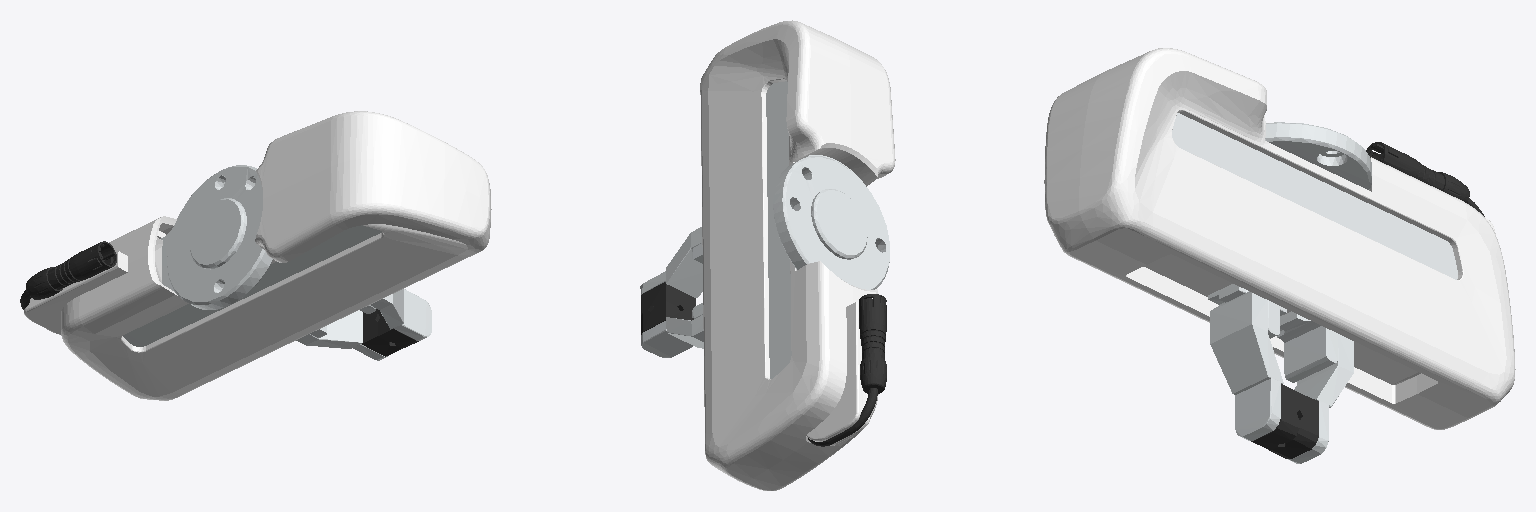
robot.urdf — fr3:
<?xml version="1.0" encoding="utf-8"?>
<robot name="fr3" path="fr3.urdf">
	<link name="base"></link>
	<link name="fr3_link0">
		<visual name="fr3_link0_visual">
			<geometry>
				<mesh filename="package://franka_description/meshes/robot_arms/fr3/visual/link0.dae"></mesh>
			</geometry>
		</visual>
		<collision>
			<geometry>
				<sphere radius="0.093646"></sphere>
			</geometry>
			<origin xyz="-0.08604953894373772 0.0036964648894988027 0.03944024855788951" rpy="0 0 0"></origin>
		</collision>
		<collision>
			<geometry>
				<sphere radius="0.117857"></sphere>
			</geometry>
			<origin xyz="-0.015627538943737723 0.00040146488949880277 0.06625224855788951" rpy="0 0 0"></origin>
		</collision>
		<inertial>
			<origin rpy="0 0 0" xyz="-0.0172 0.0004 0.0745"></origin>
			<mass value="2.3966"></mass>
			<inertia ixx="0.009" ixy="0.0" ixz="0.002" iyy="0.0115" iyz="0.0" izz="0.0085"></inertia>
		</inertial>
	</link>
	<link name="fr3_link1">
		<visual name="fr3_link1_visual">
			<geometry>
				<mesh filename="package://franka_description/meshes/robot_arms/fr3/visual/link1.dae"></mesh>
			</geometry>
		</visual>
		<collision>
			<geometry>
				<sphere radius="0.076596"></sphere>
			</geometry>
			<origin xyz="0.0002572757452726364 0.00036496158409118906 -0.1395377861636877" rpy="0 0 0"></origin>
		</collision>
		<collision>
			<geometry>
				<sphere radius="0.077209"></sphere>
			</geometry>
			<origin xyz="-0.0002227242547273636 -0.05429003841590881 0.0004042138363122977" rpy="0 0 0"></origin>
		</collision>
		<collision>
			<geometry>
				<sphere radius="0.063841"></sphere>
			</geometry>
			<origin xyz="0.0021852757452726366 -0.032367038415908815 -0.07320478616368771" rpy="0 0 0"></origin>
		</collision>
		<inertial>
			<origin rpy="0 0 0" xyz="0.0000004128 -0.0181251324 -0.0386035970"></origin>
			<mass value="2.9274653454"></mass>
			<inertia ixx="0.023927316485107913" ixy="1.3317903455714081e-05" ixz="-0.00011404774918616684" iyy="0.0224821613275756" iyz="-0.0019950320628240115" izz="0.006350098258530016"></inertia>
		</inertial>
	</link>
	<link name="fr3_link2">
		<visual name="fr3_link2_visual">
			<geometry>
				<mesh filename="package://franka_description/meshes/robot_arms/fr3/visual/link2.dae"></mesh>
			</geometry>
		</visual>
		<collision>
			<geometry>
				<sphere radius="0.076816"></sphere>
			</geometry>
			<origin xyz="-0.00027067482554912563 0.001070431646943093 0.05372098027944565" rpy="0 0 0"></origin>
		</collision>
		<collision>
			<geometry>
				<sphere radius="0.077489"></sphere>
			</geometry>
			<origin xyz="-8.367482554912564e-05 -0.14062856835305693 8.998027944565057e-05" rpy="0 0 0"></origin>
		</collision>
		<collision>
			<geometry>
				<sphere radius="0.062048"></sphere>
			</geometry>
			<origin xyz="0.0003963251744508743 -0.0708775683530569 0.03436398027944565" rpy="0 0 0"></origin>
		</collision>
		<inertial>
			<origin rpy="0 0 0" xyz="0.0031828864 -0.0743221644 0.0088146084"></origin>
			<mass value="2.9355370338"></mass>
			<inertia ixx="0.041938946257609425" ixy="0.00020257331521090626" ixz="0.004077784227179924" iyy="0.02514514885014724" iyz="-0.0042252158006570156" izz="0.06170214472888839"></inertia>
		</inertial>
	</link>
	<link name="fr3_link3">
		<visual name="fr3_link3_visual">
			<geometry>
				<mesh filename="package://franka_description/meshes/robot_arms/fr3/visual/link3.dae"></mesh>
			</geometry>
		</visual>
		<collision>
			<geometry>
				<sphere radius="0.075943"></sphere>
			</geometry>
			<origin xyz="0.0824602061868906 0.05128625277674198 -0.0022088697187900574" rpy="0 0 0"></origin>
		</collision>
		<collision>
			<geometry>
				<sphere radius="0.075019"></sphere>
			</geometry>
			<origin xyz="-0.0002167938131093991 0.00010725277674198189 -0.07312186971879006" rpy="0 0 0"></origin>
		</collision>
		<collision>
			<geometry>
				<sphere radius="0.062048"></sphere>
			</geometry>
			<origin xyz="0.0557052061868906 0.03720825277674198 -0.024382869718790057" rpy="0 0 0"></origin>
		</collision>
		<inertial>
			<origin rpy="0 0 0" xyz="0.0407015686 -0.0048200565 -0.0289730823"></origin>
			<mass value="2.2449013699"></mass>
			<inertia ixx="0.02410142547240885" ixy="0.002404694559042109" ixz="-0.002856269270114313" iyy="0.01974053266708178" iyz="-0.002104212683891874" izz="0.019044494482244823"></inertia>
		</inertial>
	</link>
	<link name="fr3_link4">
		<visual name="fr3_link4_visual">
			<geometry>
				<mesh filename="package://franka_description/meshes/robot_arms/fr3/visual/link4.dae"></mesh>
			</geometry>
		</visual>
		<collision>
			<geometry>
				<sphere radius="0.075495"></sphere>
			</geometry>
			<origin xyz="-0.08238368919563294 0.07379842906057835 -2.6764888167381956e-05" rpy="0 0 0"></origin>
		</collision>
		<collision>
			<geometry>
				<sphere radius="0.075361"></sphere>
			</geometry>
			<origin xyz="0.0001593108043670688 -7.857093942165161e-05 0.05122923511183262" rpy="0 0 0"></origin>
		</collision>
		<collision>
			<geometry>
				<sphere radius="0.055149"></sphere>
			</geometry>
			<origin xyz="-0.03874268919563294 0.029100429060578345 0.030254235111832617" rpy="0 0 0"></origin>
		</collision>
		<inertial>
			<origin rpy="0 0 0" xyz="-0.0459100965 0.0630492960 -0.0085187868"></origin>
			<mass value="2.6155955791"></mass>
			<inertia ixx="0.03452998321913202" ixy="0.01322552265982813" ixz="0.01015142998484113" iyy="0.028881621933049058" iyz="-0.0009762833870704552" izz="0.04125471171146641"></inertia>
		</inertial>
	</link>
	<link name="fr3_link5">
		<visual name="fr3_link5_visual">
			<geometry>
				<mesh filename="package://franka_description/meshes/robot_arms/fr3/visual/link5.dae"></mesh>
			</geometry>
		</visual>
		<collision>
			<geometry>
				<sphere radius="0.068828"></sphere>
			</geometry>
			<origin xyz="-0.0004341865881681442 0.06618005760097503 -0.0001217777594327979" rpy="0 0 0"></origin>
		</collision>
		<collision>
			<geometry>
				<sphere radius="0.048846"></sphere>
			</geometry>
			<origin xyz="0.00023581341183185575 0.08886305760097504 -0.0383667777594328" rpy="0 0 0"></origin>
		</collision>
		<collision>
			<geometry>
				<sphere radius="0.037086"></sphere>
			</geometry>
			<origin xyz="-2.2186588168144228e-05 0.09049005760097503 -0.09064677775943279" rpy="0 0 0"></origin>
		</collision>
		<collision>
			<geometry>
				<sphere radius="0.038546"></sphere>
			</geometry>
			<origin xyz="-0.002255186588168144 0.08243205760097504 -0.1297767777594328" rpy="0 0 0"></origin>
		</collision>
		<collision>
			<geometry>
				<sphere radius="0.052285"></sphere>
			</geometry>
			<origin xyz="0.001972813411831856 0.05637305760097504 -0.1834387777594328" rpy="0 0 0"></origin>
		</collision>
		<collision>
			<geometry>
				<sphere radius="0.06584"></sphere>
			</geometry>
			<origin xyz="-0.006596186588168144 0.016208057600975035 -0.2143127777594328" rpy="0 0 0"></origin>
		</collision>
		<collision>
			<geometry>
				<sphere radius="0.061387"></sphere>
			</geometry>
			<origin xyz="0.013021813411831855 -0.0014499423990249616 -0.2192007777594328" rpy="0 0 0"></origin>
		</collision>
		<collision>
			<geometry>
				<sphere radius="0.059023"></sphere>
			</geometry>
			<origin xyz="-0.008915186588168145 -0.009376942399024965 -0.22116877775943278" rpy="0 0 0"></origin>
		</collision>
		<inertial>
			<origin rpy="0 0 0" xyz="-0.0016039605 0.0292536262 -0.0972965990"></origin>
			<mass value="2.3271207594"></mass>
			<inertia ixx="0.051610278463662895" ixy="-0.005715173387783472" ixz="-0.0035673167625872135" iyy="0.04787729713371481" iyz="0.010673985108535986" izz="0.016423625579357254"></inertia>
		</inertial>
	</link>
	<link name="fr3_link6">
		<visual name="fr3_link6_visual">
			<geometry>
				<mesh filename="package://franka_description/meshes/robot_arms/fr3/visual/link6.dae"></mesh>
			</geometry>
		</visual>
		<collision>
			<geometry>
				<sphere radius="0.082713"></sphere>
			</geometry>
			<origin xyz="0.08852163272205019 0.011632835493021526 -0.0010641464367326884" rpy="0 0 0"></origin>
		</collision>
		<collision>
			<geometry>
				<sphere radius="0.076831"></sphere>
			</geometry>
			<origin xyz="0.011907632722050181 0.011082835493021526 0.017439853563267313" rpy="0 0 0"></origin>
		</collision>
		<inertial>
			<origin rpy="0 0 0" xyz="0.0597131221 -0.0410294666 -0.0101692726"></origin>
			<mass value="1.8170376524"></mass>
			<inertia ixx="0.005412333594383447" ixy="0.006193456360285834" ixz="0.0014219289306117652" iyy="0.014058329545509979" iyz="-0.0013140753741120031" izz="0.016080817924212554"></inertia>
		</inertial>
	</link>
	<link name="fr3_link7">
		<visual name="fr3_link7_visual">
			<geometry>
				<mesh filename="package://franka_description/meshes/robot_arms/fr3/visual/link7.dae"></mesh>
			</geometry>
		</visual>
		<collision>
			<geometry>
				<sphere radius="0.054563"></sphere>
			</geometry>
			<origin xyz="0.00010334357428550683 -0.0008827081855535511 0.07766810432720184" rpy="0 0 0"></origin>
		</collision>
		<collision>
			<geometry>
				<sphere radius="0.042595"></sphere>
			</geometry>
			<origin xyz="0.0398483435742855 0.03995329181444645 0.07909310432720185" rpy="0 0 0"></origin>
		</collision>
		<inertial>
			<origin rpy="0 0 0" xyz="0.0045225817 0.0086261921 -0.0161633251"></origin>
			<mass value="0.6271432862"></mass>
			<inertia ixx="0.00021092389150104718" ixy="-2.433299114461931e-05" ixz="4.564480393778983e-05" iyy="0.00017718568002411474" iyz="8.744070223226438e-05" izz="5.993190599659971e-05"></inertia>
		</inertial>
	</link>
	<link name="fr3_link8"></link>
	<link name="fr3_hand">
		<visual name="fr3_hand_visual">
			<geometry>
				<mesh filename="package://franka_description/meshes/robot_ee/franka_hand_white/visual/hand.dae"></mesh>
			</geometry>
		</visual>
		<collision>
			<geometry>
				<sphere radius="0.044394"></sphere>
			</geometry>
			<origin xyz="9.193240296840668e-05 0.07441707816624642 0.027520674433231355" rpy="0 0 0"></origin>
		</collision>
		<collision>
			<geometry>
				<sphere radius="0.048978"></sphere>
			</geometry>
			<origin xyz="2.5932402968406678e-05 0.033791078166246415 0.023450674433231355" rpy="0 0 0"></origin>
		</collision>
		<collision>
			<geometry>
				<sphere radius="0.050352"></sphere>
			</geometry>
			<origin xyz="1.9324029684066776e-06 -0.0068179218337535855 0.020964674433231353" rpy="0 0 0"></origin>
		</collision>
		<collision>
			<geometry>
				<sphere radius="0.044425"></sphere>
			</geometry>
			<origin xyz="7.293240296840668e-05 -0.06114992183375358 0.039945674433231354" rpy="0 0 0"></origin>
		</collision>
		<collision>
			<geometry>
				<sphere radius="0.043995"></sphere>
			</geometry>
			<origin xyz="1.6932402968406676e-05 -0.06272592183375358 0.006249674433231354" rpy="0 0 0"></origin>
		</collision>
		<inertial>
			<origin rpy="0 0 0" xyz="-0.0000376 0.0119128 0.0207260"></origin>
			<mass value="0.6544"></mass>
			<inertia ixx="0.00186" ixy="0.0" ixz="0.0" iyy="0.0003" iyz="-2e-05" izz="0.00174"></inertia>
		</inertial>
	</link>
	<link name="fr3_hand_tcp"></link>
	<link name="fr3_leftfinger">
		<visual name="fr3_leftfinger_visual">
			<geometry>
				<mesh filename="package://franka_description/meshes/robot_ee/franka_hand_white/visual/finger.dae"></mesh>
			</geometry>
		</visual>
		<collision>
			<geometry>
				<sphere radius="0.014577"></sphere>
			</geometry>
			<origin xyz="0.003501 0.0185 0.011" rpy="0 0 0"></origin>
		</collision>
		<collision>
			<geometry>
				<sphere radius="0.014578"></sphere>
			</geometry>
			<origin xyz="-0.0035 0.0185 0.011" rpy="0 0 0"></origin>
		</collision>
		<collision>
			<geometry>
				<sphere radius="0.00429"></sphere>
			</geometry>
			<origin xyz="0.007892 0.004664 0.0022" rpy="0 0 0"></origin>
		</collision>
		<collision>
			<geometry>
				<sphere radius="0.004564"></sphere>
			</geometry>
			<origin xyz="0.007396 0.009148 0.0022" rpy="0 0 0"></origin>
		</collision>
		<collision>
			<geometry>
				<sphere radius="0.00487"></sphere>
			</geometry>
			<origin xyz="0.000716 0.0043 0.0022" rpy="0 0 0"></origin>
		</collision>
		<collision>
			<geometry>
				<sphere radius="0.004752"></sphere>
			</geometry>
			<origin xyz="-0.000175 0.008893999999999999 0.0022" rpy="0 0 0"></origin>
		</collision>
		<collision>
			<geometry>
				<sphere radius="0.004695"></sphere>
			</geometry>
			<origin xyz="-0.007202 0.004383 0.0022" rpy="0 0 0"></origin>
		</collision>
		<collision>
			<geometry>
				<sphere radius="0.004571"></sphere>
			</geometry>
			<origin xyz="-0.007549 0.0089 0.0022" rpy="0 0 0"></origin>
		</collision>
		<collision>
			<geometry>
				<sphere radius="0.010191"></sphere>
			</geometry>
			<origin xyz="1.6e-05 0.011945 0.0352" rpy="0 0 0"></origin>
		</collision>
		<collision>
			<geometry>
				<sphere radius="0.010082"></sphere>
			</geometry>
			<origin xyz="-0.004842 0.017471 0.025629" rpy="0 0 0"></origin>
		</collision>
		<collision>
			<geometry>
				<sphere radius="0.009704"></sphere>
			</geometry>
			<origin xyz="0.004004 0.017923 0.024847" rpy="0 0 0"></origin>
		</collision>
		<collision>
			<geometry>
				<sphere radius="0.014829"></sphere>
			</geometry>
			<origin xyz="0.0 0.00758 0.04525" rpy="0 0 0"></origin>
		</collision>
		<inertial>
			<origin rpy="0 0 0" xyz="0 0.0152850 0.0219675"></origin>
			<mass value="0.0291"></mass>
			<inertia ixx="8.49e-06" ixy="0.0" ixz="0.0" iyy="8.53e-06" iyz="-1.06e-06" izz="1.77e-06"></inertia>
		</inertial>
	</link>
	<link name="fr3_rightfinger">
		<visual name="fr3_rightfinger_visual">
			<origin rpy="0 0 0" xyz="0 0 0"></origin>
			<geometry>
				<mesh filename="package://franka_description/meshes/robot_ee/franka_hand_white/visual/finger.dae"></mesh>
			</geometry>
		</visual>
		<collision>
			<geometry>
				<sphere radius="0.014577"></sphere>
			</geometry>
			<origin xyz="0.003501 0.0185 0.011" rpy="0 0 0"></origin>
		</collision>
		<collision>
			<geometry>
				<sphere radius="0.014578"></sphere>
			</geometry>
			<origin xyz="-0.0035 0.0185 0.011" rpy="0 0 0"></origin>
		</collision>
		<collision>
			<geometry>
				<sphere radius="0.00429"></sphere>
			</geometry>
			<origin xyz="0.007892 0.004664 0.0022" rpy="0 0 0"></origin>
		</collision>
		<collision>
			<geometry>
				<sphere radius="0.004564"></sphere>
			</geometry>
			<origin xyz="0.007396 0.009148 0.0022" rpy="0 0 0"></origin>
		</collision>
		<collision>
			<geometry>
				<sphere radius="0.00487"></sphere>
			</geometry>
			<origin xyz="0.000716 0.0043 0.0022" rpy="0 0 0"></origin>
		</collision>
		<collision>
			<geometry>
				<sphere radius="0.004752"></sphere>
			</geometry>
			<origin xyz="-0.000175 0.008893999999999999 0.0022" rpy="0 0 0"></origin>
		</collision>
		<collision>
			<geometry>
				<sphere radius="0.004695"></sphere>
			</geometry>
			<origin xyz="-0.007202 0.004383 0.0022" rpy="0 0 0"></origin>
		</collision>
		<collision>
			<geometry>
				<sphere radius="0.004571"></sphere>
			</geometry>
			<origin xyz="-0.007549 0.0089 0.0022" rpy="0 0 0"></origin>
		</collision>
		<collision>
			<geometry>
				<sphere radius="0.010137"></sphere>
			</geometry>
			<origin xyz="0.004086058018873126 0.013642224017722297 0.031498468183219636" rpy="0 0 0"></origin>
		</collision>
		<collision>
			<geometry>
				<sphere radius="0.010701"></sphere>
			</geometry>
			<origin xyz="5.801887312660461e-08 0.019548224017722295 0.020975468183219638" rpy="0 0 0"></origin>
		</collision>
		<collision>
			<geometry>
				<sphere radius="0.010583"></sphere>
			</geometry>
			<origin xyz="-0.005011941981126873 0.013726224017722296 0.030987468183219638" rpy="0 0 0"></origin>
		</collision>
		<collision>
			<geometry>
				<sphere radius="0.014829"></sphere>
			</geometry>
			<origin xyz="0.0 0.00758 0.04525" rpy="0 0 0"></origin>
		</collision>
		<inertial>
			<origin rpy="0 0 0" xyz="0 0.0152850 0.0219675"></origin>
			<mass value="0.0291"></mass>
			<inertia ixx="8.49e-06" ixy="0.0" ixz="0.0" iyy="8.53e-06" iyz="-1.06e-06" izz="1.77e-06"></inertia>
		</inertial>
	</link>
	<joint name="fr3_base_joint" type="fixed">
		<parent link="base"></parent>
		<child link="fr3_link0"></child>
		<origin rpy="0 0 0" xyz="0 0 0"></origin>
	</joint>
	<joint name="fr3_joint1" type="revolute">
		<origin rpy="0 0 0" xyz="0 0 0.333"></origin>
		<parent link="fr3_link0"></parent>
		<child link="fr3_link1"></child>
		<axis xyz="0 0 1"></axis>
		<limit effort="87.0" lower="-2.7437" upper="2.7437" velocity="2.62"></limit>
		<safety_controller k_position="100.0" k_velocity="40.0" soft_lower_limit="-2.7437" soft_upper_limit="2.7437"></safety_controller>
		<dynamics D="1" K="7000" damping="0.003" friction="0.2" mu_coulomb="0" mu_viscous="16"></dynamics>
	</joint>
	<joint name="fr3_joint2" type="revolute">
		<origin rpy="-1.570796326794897 0 0" xyz="0 0 0"></origin>
		<parent link="fr3_link1"></parent>
		<child link="fr3_link2"></child>
		<axis xyz="0 0 1"></axis>
		<limit effort="87.0" lower="-1.7837" upper="1.7837" velocity="2.62"></limit>
		<safety_controller k_position="100.0" k_velocity="40.0" soft_lower_limit="-1.7837" soft_upper_limit="1.7837"></safety_controller>
		<dynamics D="1" K="7000" damping="0.003" friction="0.2" mu_coulomb="0" mu_viscous="16"></dynamics>
	</joint>
	<joint name="fr3_joint3" type="revolute">
		<origin rpy="1.570796326794897 0 0" xyz="0 -0.316 0"></origin>
		<parent link="fr3_link2"></parent>
		<child link="fr3_link3"></child>
		<axis xyz="0 0 1"></axis>
		<limit effort="87.0" lower="-2.9007" upper="2.9007" velocity="2.62"></limit>
		<safety_controller k_position="100.0" k_velocity="40.0" soft_lower_limit="-2.9007" soft_upper_limit="2.9007"></safety_controller>
		<dynamics D="1" K="7000" damping="0.003" friction="0.2" mu_coulomb="0" mu_viscous="16"></dynamics>
	</joint>
	<joint name="fr3_joint4" type="revolute">
		<origin rpy="1.570796326794897 0 0" xyz="0.0825 0 0"></origin>
		<parent link="fr3_link3"></parent>
		<child link="fr3_link4"></child>
		<axis xyz="0 0 1"></axis>
		<limit effort="87.0" lower="-3.0421" upper="-0.1518" velocity="2.62"></limit>
		<safety_controller k_position="100.0" k_velocity="40.0" soft_lower_limit="-3.0421" soft_upper_limit="-0.1518"></safety_controller>
		<dynamics D="1" K="7000" damping="0.003" friction="0.2" mu_coulomb="0" mu_viscous="16"></dynamics>
	</joint>
	<joint name="fr3_joint5" type="revolute">
		<origin rpy="-1.570796326794897 0 0" xyz="-0.0825 0.384 0"></origin>
		<parent link="fr3_link4"></parent>
		<child link="fr3_link5"></child>
		<axis xyz="0 0 1"></axis>
		<limit effort="12.0" lower="-2.8065" upper="2.8065" velocity="5.26"></limit>
		<safety_controller k_position="100.0" k_velocity="40.0" soft_lower_limit="-2.8065" soft_upper_limit="2.8065"></safety_controller>
		<dynamics D="1" K="7000" damping="0.003" friction="0.2" mu_coulomb="0" mu_viscous="16"></dynamics>
	</joint>
	<joint name="fr3_joint6" type="revolute">
		<origin rpy="1.570796326794897 0 0" xyz="0 0 0"></origin>
		<parent link="fr3_link5"></parent>
		<child link="fr3_link6"></child>
		<axis xyz="0 0 1"></axis>
		<limit effort="12.0" lower="0.5445" upper="4.5169" velocity="4.18"></limit>
		<safety_controller k_position="100.0" k_velocity="40.0" soft_lower_limit="0.5445" soft_upper_limit="4.5169"></safety_controller>
		<dynamics D="1" K="7000" damping="0.003" friction="0.2" mu_coulomb="0" mu_viscous="16"></dynamics>
	</joint>
	<joint name="fr3_joint7" type="revolute">
		<origin rpy="1.570796326794897 0 0" xyz="0.088 0 0"></origin>
		<parent link="fr3_link6"></parent>
		<child link="fr3_link7"></child>
		<axis xyz="0 0 1"></axis>
		<limit effort="12.0" lower="-3.0159" upper="3.0159" velocity="5.26"></limit>
		<safety_controller k_position="100.0" k_velocity="40.0" soft_lower_limit="-3.0159" soft_upper_limit="3.0159"></safety_controller>
		<dynamics D="1" K="7000" damping="0.003" friction="0.2" mu_coulomb="0" mu_viscous="16"></dynamics>
	</joint>
	<joint name="fr3_joint8" type="fixed">
		<origin rpy="0 0 0" xyz="0 0 0.107"></origin>
		<parent link="fr3_link7"></parent>
		<child link="fr3_link8"></child>
	</joint>
	<joint name="fr3_hand_joint" type="fixed">
		<parent link="fr3_link8"></parent>
		<child link="fr3_hand"></child>
		<origin rpy="0 0 -0.7853981633974483" xyz="0 0 0"></origin>
	</joint>
	<joint name="fr3_hand_tcp_joint" type="fixed">
		<origin rpy="0 0 0" xyz="0 0 0.1034"></origin>
		<parent link="fr3_hand"></parent>
		<child link="fr3_hand_tcp"></child>
	</joint>
	<joint name="fr3_finger_joint1" type="prismatic">
		<parent link="fr3_hand"></parent>
		<child link="fr3_leftfinger"></child>
		<origin rpy="0 0 0" xyz="0 0 0.0584"></origin>
		<axis xyz="0 1 0"></axis>
		<limit effort="100" lower="0.0" upper="0.04" velocity="0.2"></limit>
		<dynamics damping="0.3"></dynamics>
	</joint>
	<joint name="fr3_finger_joint2" type="prismatic">
		<parent link="fr3_hand"></parent>
		<child link="fr3_rightfinger"></child>
		<origin rpy="0 0 3.141592653589793" xyz="0 0 0.0584"></origin>
		<axis xyz="0 1 0"></axis>
		<limit effort="100" lower="0.0" upper="0.04" velocity="0.2"></limit>
		<mimic joint="fr3_finger_joint1"></mimic>
		<dynamics damping="0.3"></dynamics>
	</joint>
</robot>

--- Facts derived from the render (not from the file) ---
3 views of the same robot in one strip: view 1: azimuth 30°, elevation 25°; view 2: azimuth 150°, elevation 25°; view 3: azimuth 270°, elevation 25° (orthographic).
Robot: fr3 — 14 links, 13 joints (7 revolute, 2 prismatic, 4 fixed); root link base; default pose: joints at zero except 2 at the middle of their limits (fr3_joint4 = -1.6, fr3_joint6 = 2.53).
Visible links, largest first — view 1: fr3_hand, fr3_leftfinger, fr3_rightfinger; view 2: fr3_hand, fr3_leftfinger, fr3_rightfinger; view 3: fr3_hand, fr3_leftfinger, fr3_rightfinger.
Link boxes in pixels (bbox=[...]): fr3_hand: bbox=[20, 111, 491, 400]; fr3_leftfinger: bbox=[360, 289, 431, 347]; fr3_rightfinger: bbox=[296, 309, 402, 360]; fr3_hand: bbox=[700, 20, 895, 490]; fr3_leftfinger: bbox=[640, 227, 702, 314]; fr3_rightfinger: bbox=[641, 301, 703, 357]; fr3_hand: bbox=[1044, 48, 1515, 429]; fr3_leftfinger: bbox=[1208, 284, 1299, 449]; fr3_rightfinger: bbox=[1269, 311, 1353, 463].
Size in the robot's own frame: 0.156 by 0.1649 by 0.1636 metres.
3 mesh visuals loaded from 10 distinct referenced files (2 Collada DAE); not drawn: 8 (reference not matched to a file when rendering).